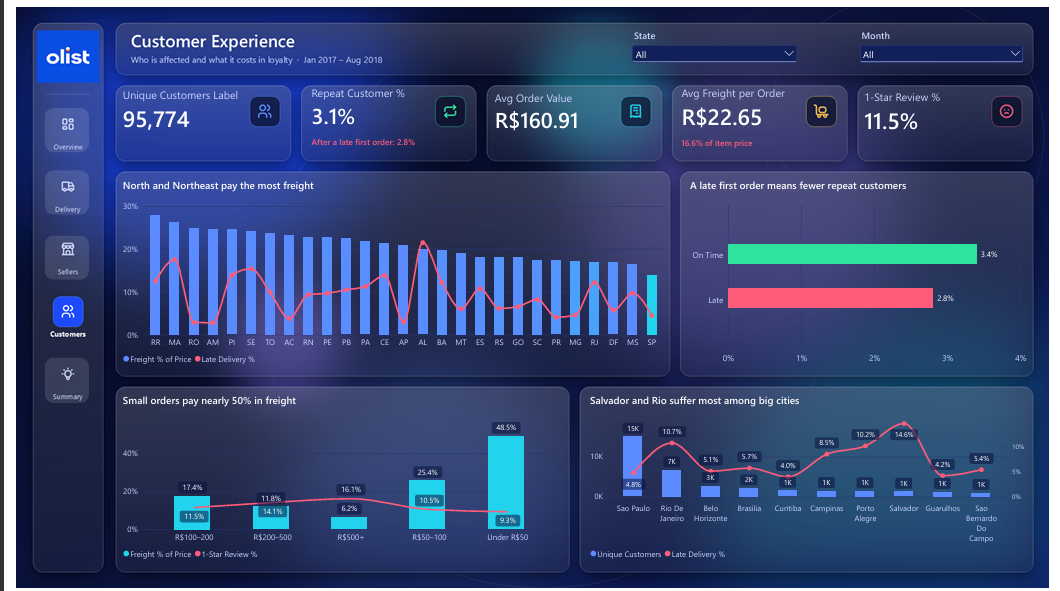

The dashboard page shown, as its layout file describes it:
{"tool":"powerbi","page":{"name":"Customers","canvas":[1920,1080],"ordinal":4},"visuals":[{"type":"cardVisual","fields":{"Data":["_Measures.Unique Customers Label"]},"box":[181.4,114.5,252.7,153.4],"z":0},{"type":"slicer","fields":{"Values":["Calendar.Year-Month"]},"box":[1563.1,39.3,313.8,80.5],"z":1000},{"type":"slicer","fields":{"Values":["Customers.customer_state"]},"box":[1140.5,38.9,315.4,79.9],"z":2000},{"type":"cardVisual","fields":{"Data":["_Measures.1-Star Review %"]},"box":[1559.5,116.6,248.4,153.4],"z":3000},{"type":"cardVisual","fields":{"Data":["_Measures.Avg Freight per Order"]},"box":[1220.4,149,235.4,153.4],"z":4000},{"type":"cardVisual","fields":{"Data":["_Measures.Avg Order Value"]},"box":[872.6,116.6,244.1,153.4],"z":5000},{"type":"cardVisual","fields":{"Data":["_Measures.Repeat Customer %"]},"box":[532.1,147.3,243.5,153.2],"z":6000},{"type":"actionButton","box":[51.8,302.4,82.1,82.1],"z":7000},{"type":"actionButton","box":[51.8,185.8,82.1,82.1],"z":8000},{"type":"actionButton","box":[51.8,423.4,82.1,82.1],"z":9000},{"type":"lineClusteredColumnComboChart","title":"North and Northeast pay the most freight","fields":{"Category":["Customers.customer_state"],"Y":["_Measures.Freight % of Price"],"Y2":["_Measures.Late Delivery %"]},"box":[181.4,302.4,1039,380.2],"z":9001},{"type":"clusteredBarChart","title":"A late first order means fewer repeat customers","fields":{"Category":["Orders.Delivery Status"],"Y":["_Measures.Repeat Rate (First Orders)"]},"box":[1235.5,302.4,658.8,380.2],"z":9002},{"type":"lineClusteredColumnComboChart","title":"Small orders pay nearly 50% in freight","fields":{"Category":["Orders.Basket Bucket"],"Y":["_Measures.Freight % of Price"],"Y2":["_Measures.1-Star Review %"]},"box":[181.4,702,842.4,343.4],"z":9004},{"type":"lineClusteredColumnComboChart","title":"Salvador and Rio suffer most among big cities","fields":{"Category":["Customers.customer_city"],"Y":["_Measures.Unique Customers"],"Y2":["_Measures.Late Delivery %"]},"box":[1049.8,702,844.6,343.4],"z":9005},{"type":"actionButton","box":[51.8,650.2,82.1,84.2],"z":9006}]}

Visuals, with their boxes on the page's 1920x1080 design canvas (x1, y1, x2, y2). These are canvas units, not pixel positions in the 1060x591 screenshot, which may show the page scaled, cropped or inside an application window:
cardVisual - _Measures.Unique Customers Label: <bbox>181, 114, 434, 268</bbox>
slicer - Calendar.Year-Month: <bbox>1563, 39, 1877, 120</bbox>
slicer - Customers.customer_state: <bbox>1140, 39, 1456, 119</bbox>
cardVisual - _Measures.1-Star Review %: <bbox>1560, 117, 1808, 270</bbox>
cardVisual - _Measures.Avg Freight per Order: <bbox>1220, 149, 1456, 302</bbox>
cardVisual - _Measures.Avg Order Value: <bbox>873, 117, 1117, 270</bbox>
cardVisual - _Measures.Repeat Customer %: <bbox>532, 147, 776, 300</bbox>
actionButton: <bbox>52, 302, 134, 384</bbox>
actionButton: <bbox>52, 186, 134, 268</bbox>
actionButton: <bbox>52, 423, 134, 506</bbox>
"North and Northeast pay the most freight" lineClusteredColumnComboChart: <bbox>181, 302, 1220, 683</bbox>
"A late first order means fewer repeat customers" clusteredBarChart: <bbox>1236, 302, 1894, 683</bbox>
"Small orders pay nearly 50% in freight" lineClusteredColumnComboChart: <bbox>181, 702, 1024, 1045</bbox>
"Salvador and Rio suffer most among big cities" lineClusteredColumnComboChart: <bbox>1050, 702, 1894, 1045</bbox>
actionButton: <bbox>52, 650, 134, 734</bbox>
